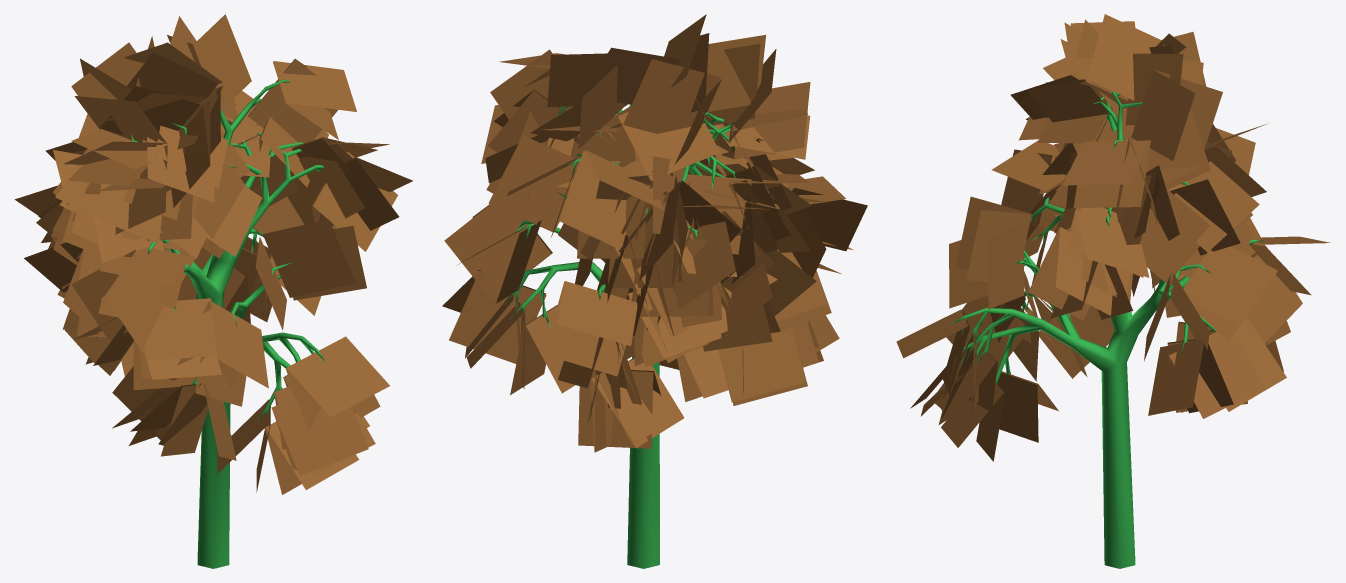
File: tree.obj
The picture shows the model from 3 angles, left to right: view 1: azimuth 30°, elevation 25°; view 2: azimuth 150°, elevation 25°; view 3: azimuth 270°, elevation 25°; orthographic projection. The views are drawn at different scales.
Visible parts, largest first — view 1: twig, tree; view 2: twig, tree; view 3: twig, tree.
Part boxes in pixels (box(x1,y1,x2,y2)): twig: box(14, 14, 412, 494); tree: box(131, 79, 326, 568); twig: box(442, 14, 867, 452); tree: box(504, 104, 735, 568); twig: box(896, 14, 1330, 461); tree: box(949, 91, 1263, 568).
Size of the model in its own units: 3.98 by 6.2 by 4.68.
